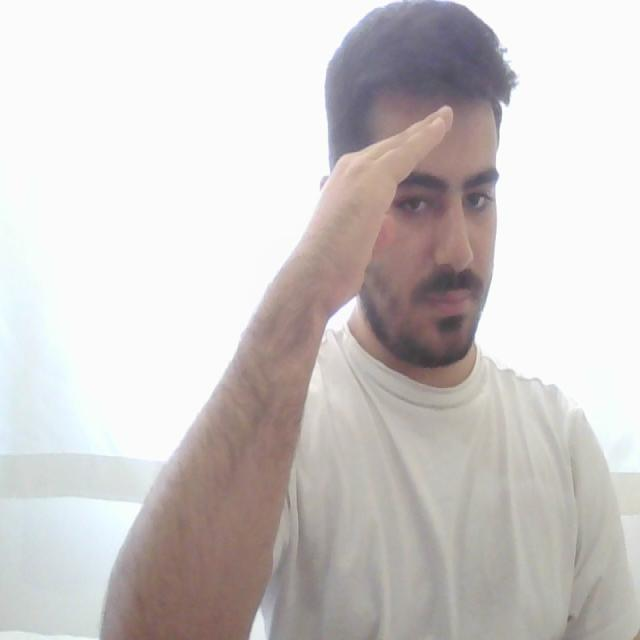Merhaba: (288, 89, 456, 340)
